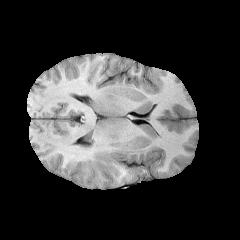glioma: (88, 150, 121, 171)
